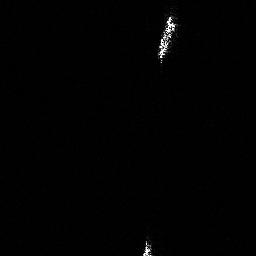ship: (155, 14, 179, 62), (140, 238, 155, 256)
